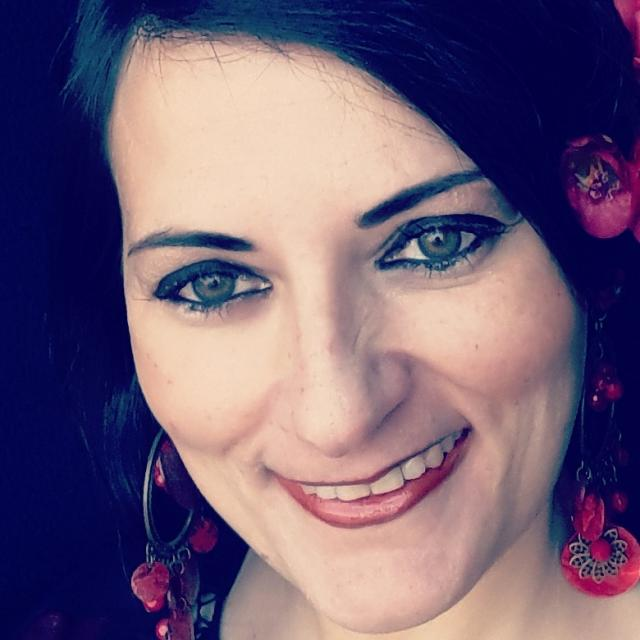Normal: (105, 34, 589, 635)
